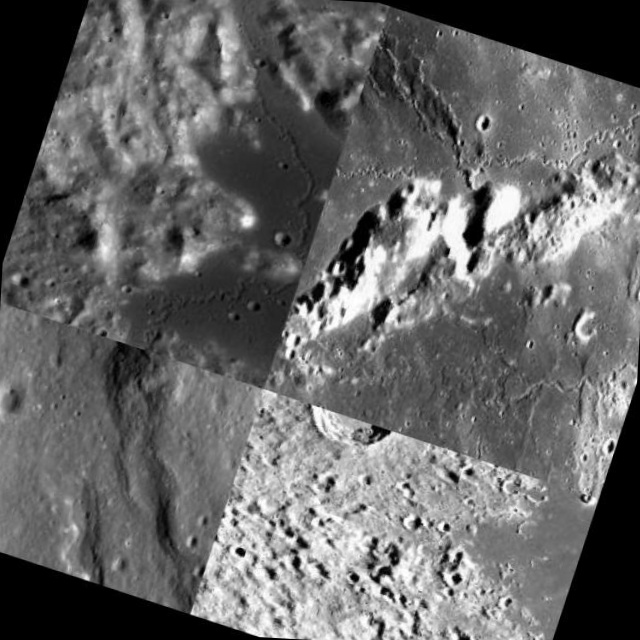crater: (297, 2, 640, 371), (12, 41, 341, 390)
